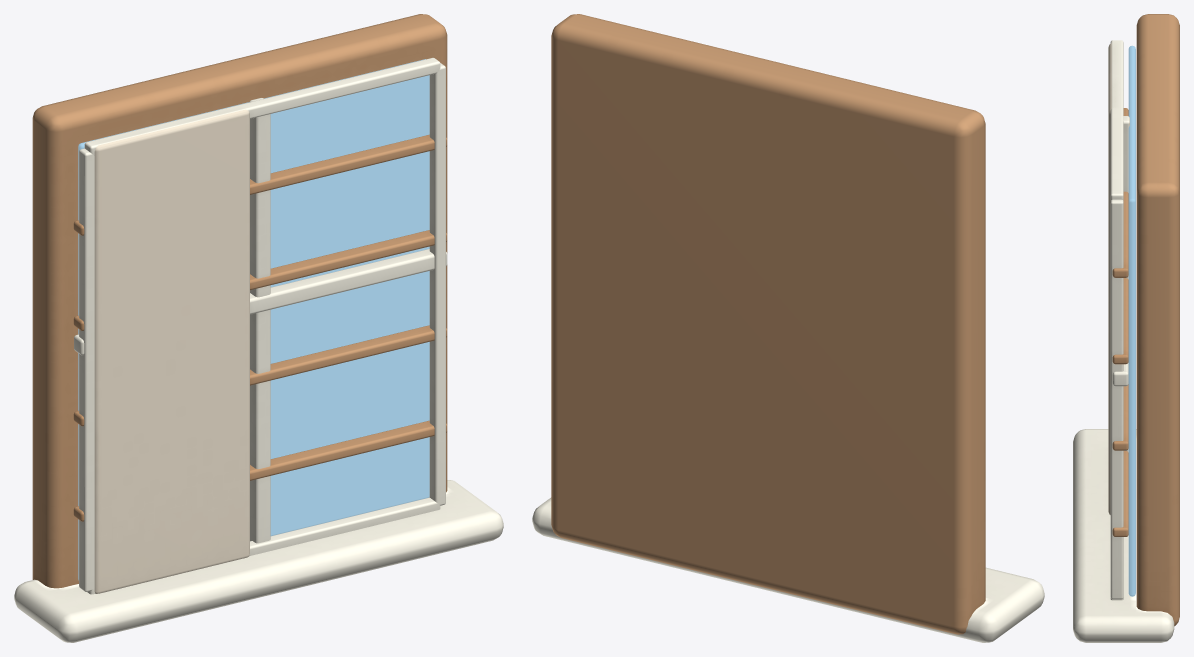
The model's file is windowJapaneseL.glb.
3 views of the same model, side by side, from view 1: azimuth 30°, elevation 25°; view 2: azimuth 150°, elevation 25°; view 3: azimuth 270°, elevation 25° (orthographic). The views are drawn at different scales.
Parts seen in each view (by area): view 1: Sliding panel, Window glass, Window frame, Sill, Window muntin, Opening sash upright.001, Opening sash upright, Opening sash rail.001, Window crossbar, Shoji lattice.003, Shoji lattice.001, Shoji lattice (+2 smaller); view 2: Window frame, Sill; view 3: Window frame, Sill, Opening sash upright.001, Window glass, Opening sash rail.001, Sliding panel, Shoji lattice.003, Shoji lattice.002, Shoji lattice, Shoji lattice.001, Window muntin, Window crossbar.
Part boxes in pixels (bbox=[...]): Sliding panel: bbox=[94, 109, 249, 593]; Window glass: bbox=[78, 59, 429, 580]; Window frame: bbox=[32, 14, 447, 588]; Sill: bbox=[14, 480, 503, 642]; Window muntin: bbox=[249, 98, 270, 543]; Opening sash upright.001: bbox=[429, 63, 445, 505]; Opening sash upright: bbox=[79, 148, 94, 591]; Opening sash rail.001: bbox=[84, 57, 440, 155]; Window crossbar: bbox=[74, 249, 447, 355]; Shoji lattice.003: bbox=[73, 134, 447, 235]; Shoji lattice.001: bbox=[73, 325, 447, 426]; Shoji lattice: bbox=[73, 420, 447, 521]; Window frame: bbox=[551, 14, 985, 634]; Sill: bbox=[532, 497, 1044, 642]; Window frame: bbox=[1136, 14, 1179, 626]; Sill: bbox=[1073, 429, 1174, 642]; Opening sash upright.001: bbox=[1110, 199, 1123, 599]; Window glass: bbox=[1128, 45, 1135, 596]; Opening sash rail.001: bbox=[1110, 40, 1123, 200]; Sliding panel: bbox=[1108, 43, 1111, 514]; Shoji lattice.003: bbox=[1112, 108, 1128, 277]; Shoji lattice.002: bbox=[1112, 278, 1128, 364]; Shoji lattice: bbox=[1112, 451, 1128, 536]; Shoji lattice.001: bbox=[1112, 384, 1128, 450]; Window muntin: bbox=[1123, 116, 1129, 452]; Window crossbar: bbox=[1112, 362, 1128, 386].
Bounding box in the file's own units: 1.61 × 1.72 × 0.37.
